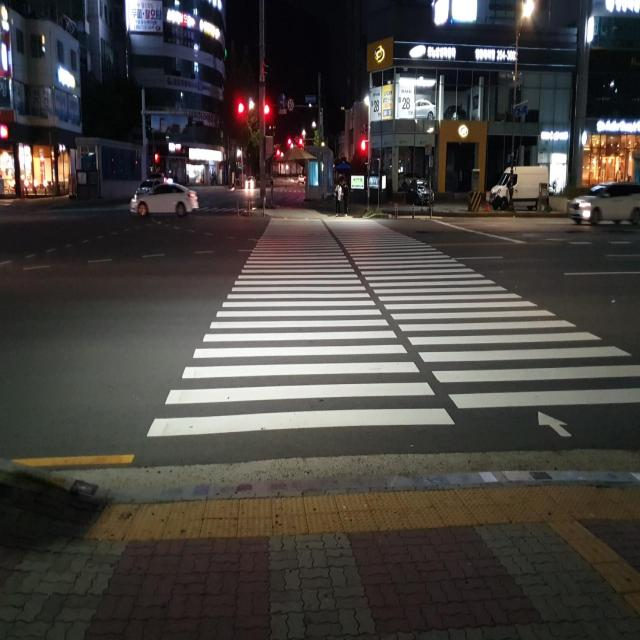빨간불: (361, 136, 367, 162)
횡단보도: (146, 217, 640, 440)
